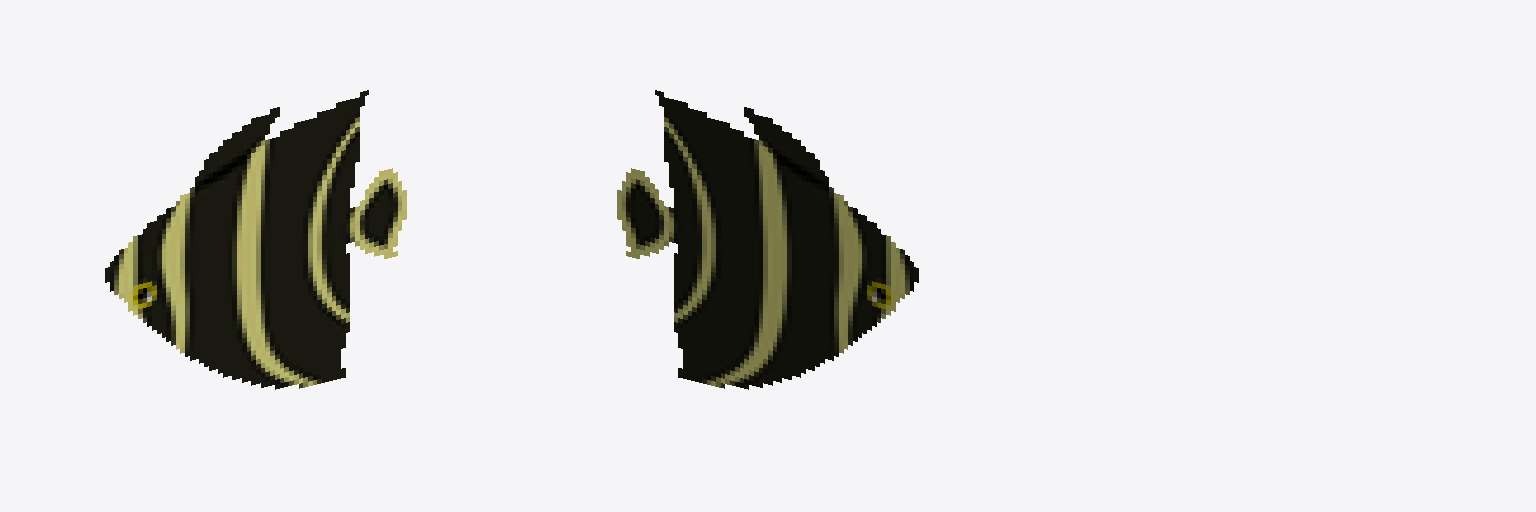
3 views of the same model, side by side, from view 1: azimuth 30°, elevation 25°; view 2: azimuth 150°, elevation 25°; view 3: azimuth 270°, elevation 25° (orthographic).
Parts seen in each view (by area): view 1: seafish2; view 2: seafish2; view 3: none.
Boxes of the visible parts, box(x1,y1,x2,y2) form: seafish2: box(105, 90, 406, 389); seafish2: box(617, 90, 918, 389).
Size of the model in its own units: 4 by 3.62 by 0.
1 materials, 1 textured.